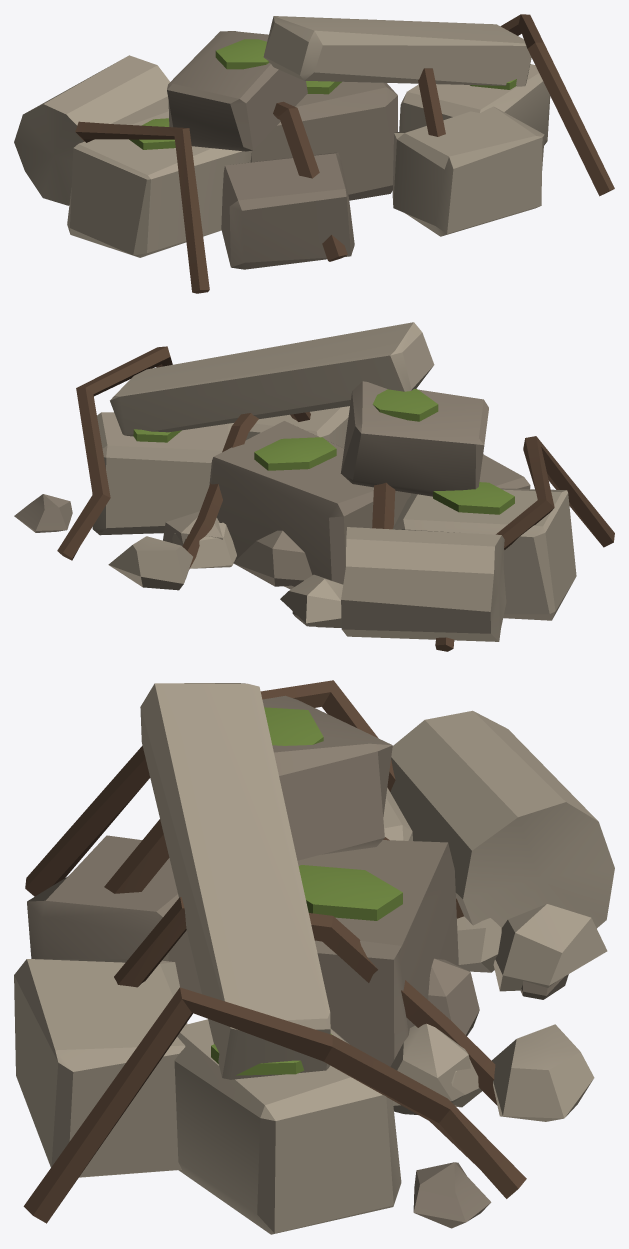
Rendered from ruins-rubble.glb.
The picture shows the model from 3 angles, top to bottom: view 1: azimuth 30°, elevation 25°; view 2: azimuth 150°, elevation 25°; view 3: azimuth 270°, elevation 25°; orthographic projection. The views are drawn at different scales.
Visible parts, largest first — view 1: ruins-rubble; view 2: ruins-rubble; view 3: ruins-rubble.
Part boxes in pixels (bbox=[...]): ruins-rubble: bbox=[14, 14, 614, 293]; ruins-rubble: bbox=[14, 322, 614, 651]; ruins-rubble: bbox=[14, 680, 614, 1234].
Bounding box in the file's own units: 3.6 × 1.51 × 2.38.
